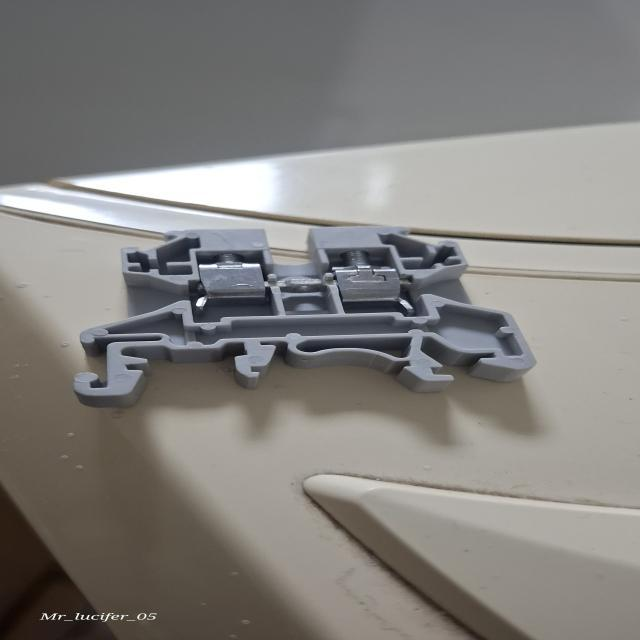Pass: (69, 225, 542, 406)
